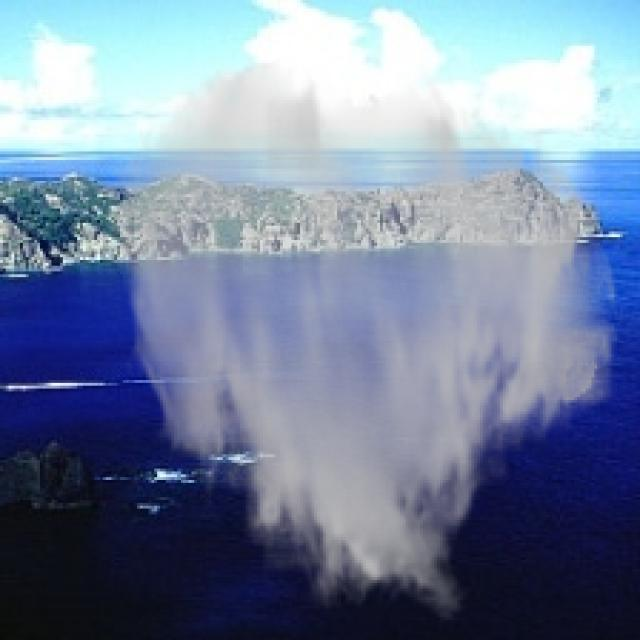smoke: (106, 57, 623, 623)
